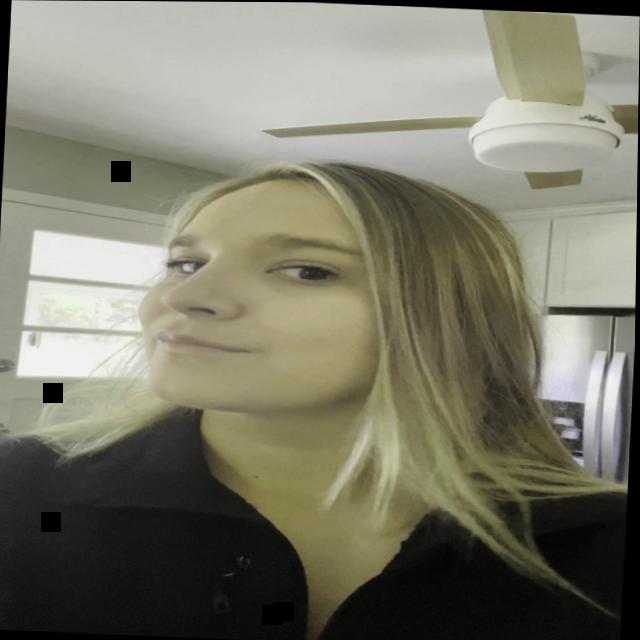NO-Mask: (130, 163, 441, 453)
